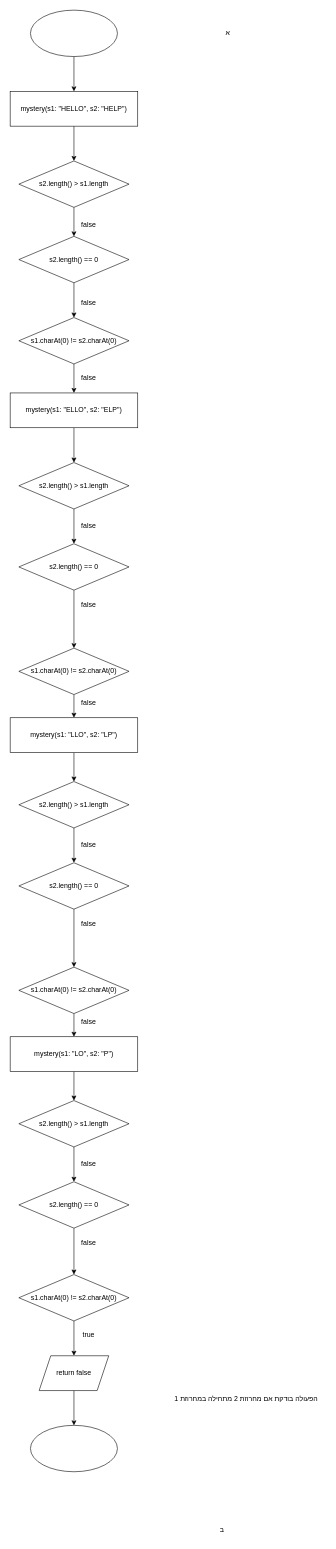
Some shapes in this 336 by 1549 pixel diagram are drawn without their labels. The shapes that lost their labels are listed below. From the top down, each one's centre as x and y in pixels, then its label:
At (73,33): "Start".
At (73,1448): "End".
